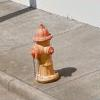Hydrant: (23, 16, 65, 86)
